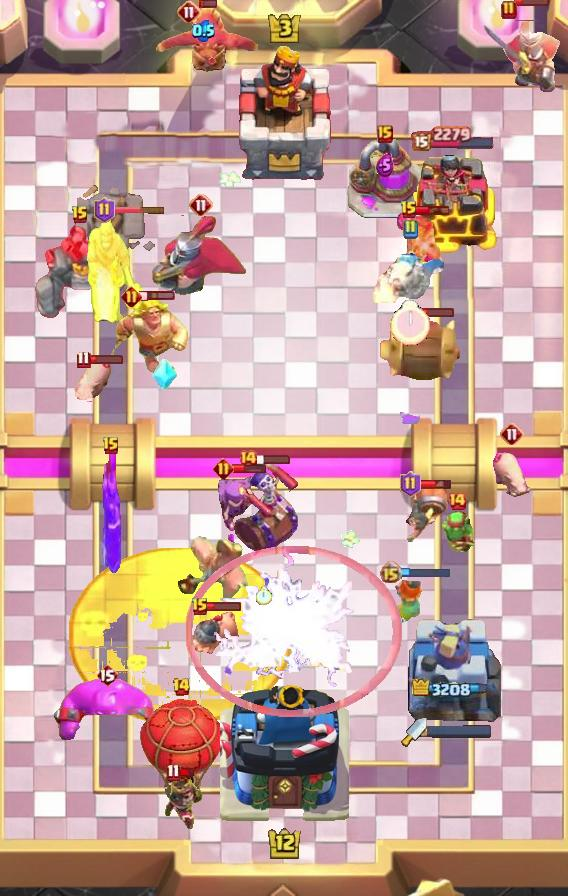bar: (405, 611, 501, 731)
barbarian-evolution: (186, 546, 403, 718)
bomber-evolution: (162, 775, 206, 829)
cannon-cart: (138, 697, 224, 805)
cannoneer-tower: (31, 222, 129, 324)
clone: (51, 678, 163, 744)
electro-spirit: (193, 18, 216, 42), (376, 153, 394, 177)
elixir: (390, 300, 430, 346), (256, 587, 272, 605)
elixir-golem-big: (98, 449, 124, 575)
emote: (399, 567, 451, 578), (112, 205, 166, 215), (139, 290, 177, 302), (415, 204, 451, 216), (255, 453, 291, 465), (419, 478, 454, 490), (419, 306, 455, 317), (88, 355, 124, 366), (206, 600, 242, 611), (233, 462, 268, 473), (514, 0, 550, 7), (179, 766, 197, 777), (198, 0, 217, 8)
executioner: (187, 610, 241, 656)
freeze: (84, 214, 146, 326), (173, 536, 249, 602)
giant: (491, 449, 533, 501), (72, 356, 114, 402)
giant-snowball: (439, 510, 475, 552)
goblin-hut: (100, 295, 192, 379)
hog-rider: (389, 575, 427, 627)
king-tower: (219, 678, 349, 826), (230, 43, 338, 181)
king-tower-bar: (427, 725, 491, 738)
knight: (399, 480, 449, 544)
mini-pekka: (373, 239, 447, 303)
mother-witch: (148, 0, 258, 78)
pad_2: (151, 359, 177, 391)
pekka: (346, 138, 424, 220)
phoenix-egg: (69, 547, 293, 724)
queen-tower: (408, 154, 498, 256)
rascal-girl: (215, 473, 259, 551)
selected: (412, 125, 497, 151), (412, 679, 494, 701)
skeleton-king-bar: (229, 457, 299, 557)
tesla-evolution: (394, 207, 446, 275)
text: (177, 0, 201, 24), (189, 193, 213, 217), (500, 422, 524, 446), (399, 471, 421, 497), (379, 560, 402, 584), (94, 197, 115, 223), (96, 663, 118, 687), (121, 285, 142, 307), (213, 457, 234, 478), (238, 449, 258, 469), (447, 491, 467, 511), (173, 677, 192, 697), (400, 200, 418, 220), (71, 205, 89, 225), (102, 436, 120, 456), (191, 597, 209, 617), (501, 0, 517, 20), (402, 219, 418, 239), (377, 125, 393, 143), (76, 351, 91, 370), (167, 763, 181, 781)
the-log: (378, 316, 468, 384)
wall-breaker-evolution: (152, 215, 250, 297), (481, 2, 565, 94)
